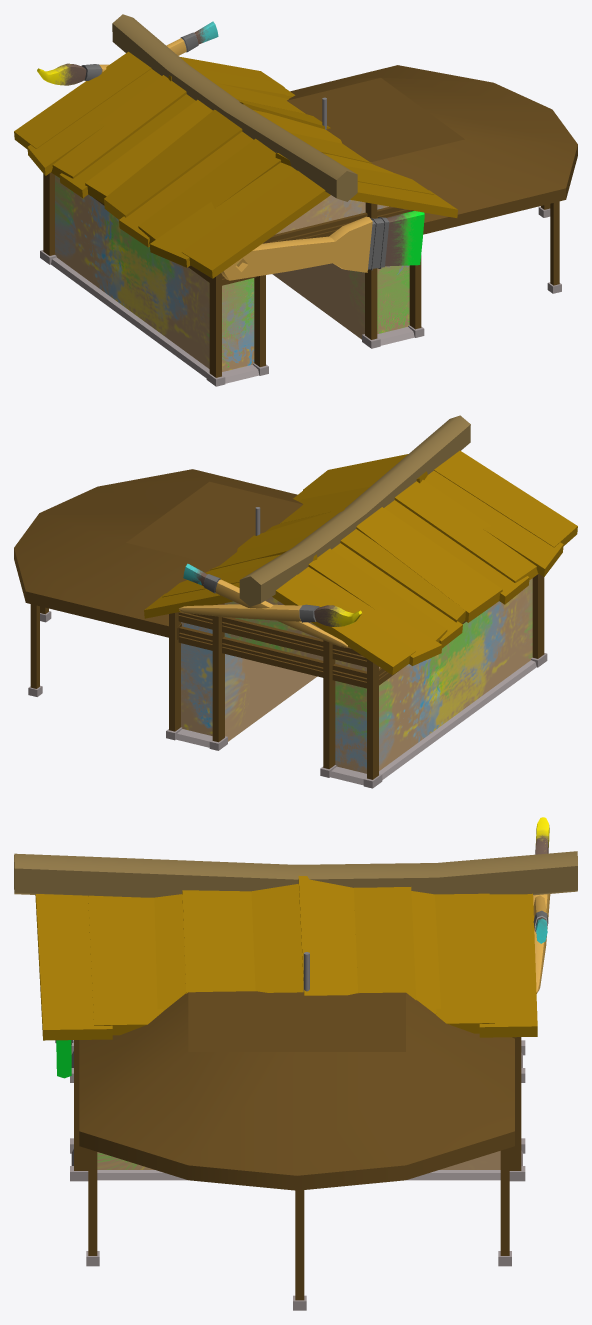
The model's file is mesh_Paint_ye_Wagon.fbx.
3 views of the same model, one above another, from view 1: azimuth 30°, elevation 25°; view 2: azimuth 150°, elevation 25°; view 3: azimuth 270°, elevation 25° (orthographic). The views are drawn at different scales.
Parts seen in each view (by area): view 1: Paint_ye_Wagon; view 2: Paint_ye_Wagon; view 3: Paint_ye_Wagon.
Boxes of the visible parts, x1,y1,x2,y2 form: Paint_ye_Wagon: [14, 14, 577, 386]; Paint_ye_Wagon: [14, 415, 577, 788]; Paint_ye_Wagon: [14, 817, 577, 1310].
Bounding box in the file's own units: 2301 × 987 × 1902.
3 materials, 3 textured.
